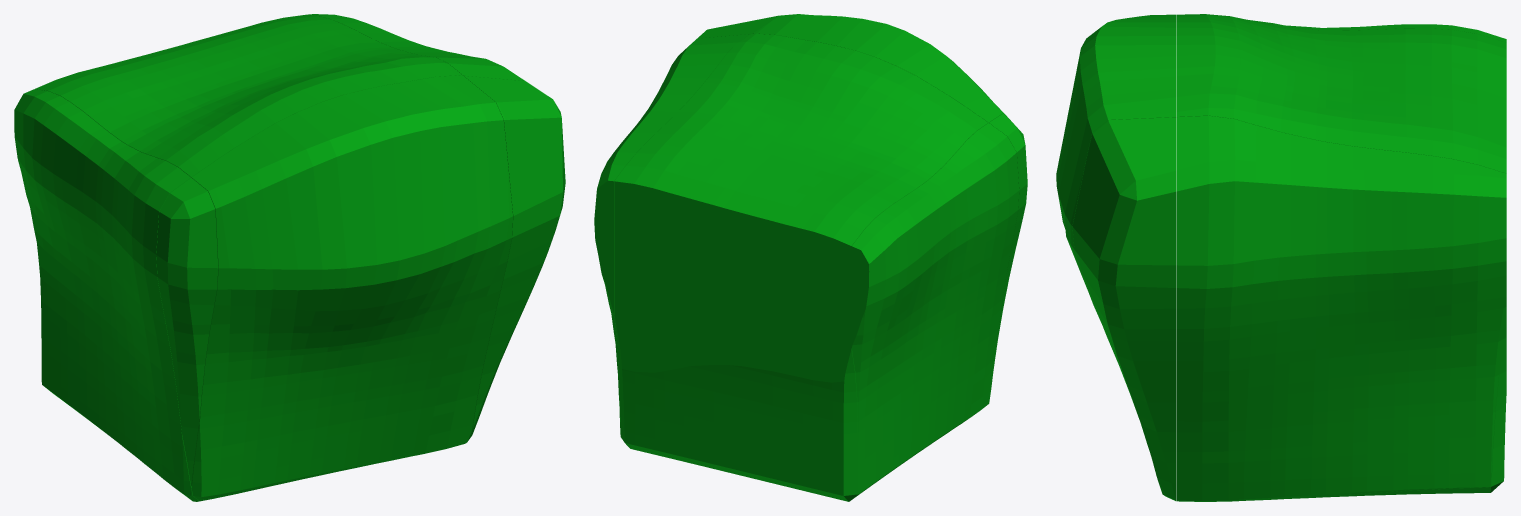
File: 4by10beveledsubdivided.038.fbx
3 views of the same model, side by side, from view 1: azimuth 30°, elevation 25°; view 2: azimuth 150°, elevation 25°; view 3: azimuth 270°, elevation 25° (orthographic). The views are drawn at different scales.
Visible parts, largest first — view 1: 4by10beveledsubdivided.038; view 2: 4by10beveledsubdivided.038; view 3: 4by10beveledsubdivided.038.
Part boxes in pixels (box(x1,y1,x2,y2)): 4by10beveledsubdivided.038: box(14, 14, 565, 501); 4by10beveledsubdivided.038: box(594, 14, 1027, 501); 4by10beveledsubdivided.038: box(1056, 14, 1506, 501).
Size of the model in its own units: 284 by 263 by 273.
